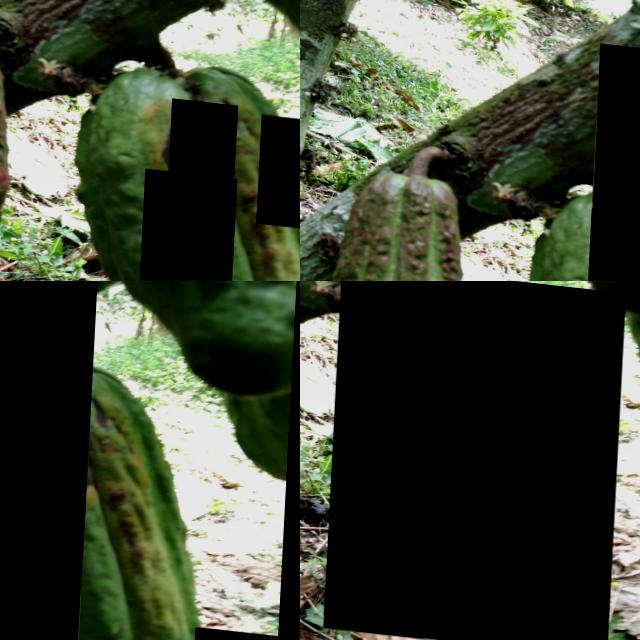Monilia: (329, 281, 627, 640), (588, 35, 640, 281)
Sana: (0, 281, 99, 640), (142, 160, 240, 281), (171, 89, 241, 184), (260, 104, 300, 218), (193, 613, 283, 640)
